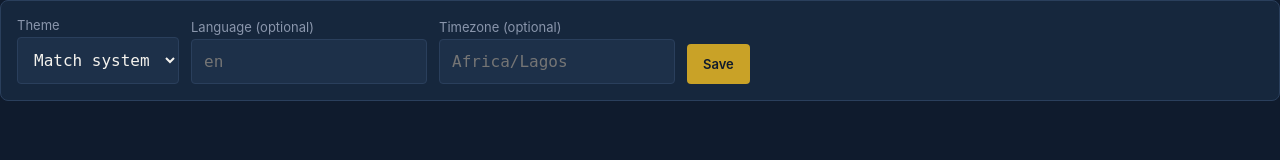
it: SettingsForm › shows the returned error message on failure, not a success confirmation
Click the button "Save": point(718, 64) [687,44,750,84]
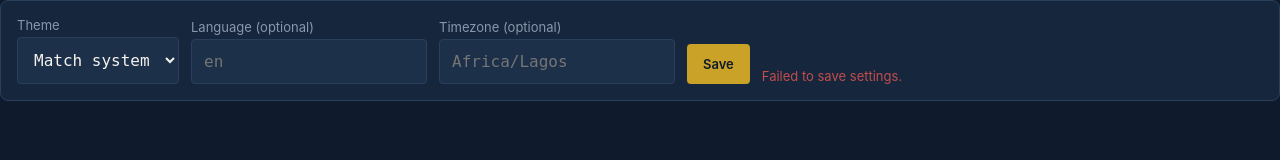
Now the text "Failed to save settings." is shown, box [762,68,902,84]
